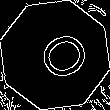O_SW: (22, 23, 88, 87)
